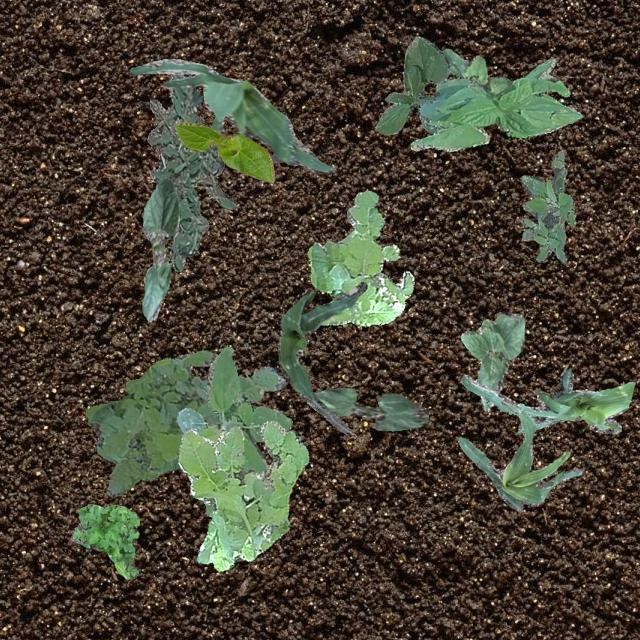crop: (128, 58, 334, 174), (409, 58, 581, 150), (456, 398, 580, 510), (276, 280, 366, 432), (460, 368, 634, 432), (374, 35, 448, 134), (459, 310, 524, 410), (174, 120, 274, 182), (140, 177, 178, 321), (312, 386, 428, 431)
weed: (84, 348, 284, 496), (176, 344, 292, 516), (178, 420, 308, 570), (146, 72, 234, 270), (306, 188, 412, 326), (520, 148, 574, 262), (70, 502, 138, 578), (441, 48, 512, 94)
